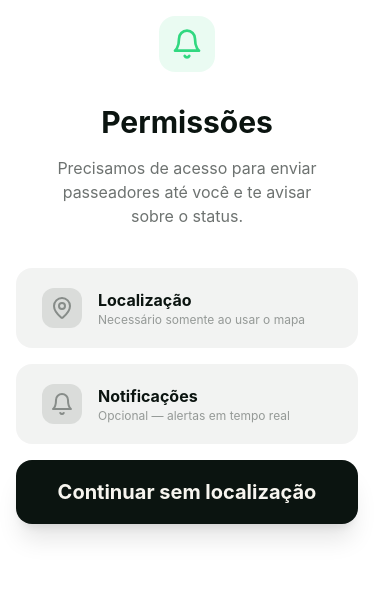
Test: PermissionsStep — localização opcional › permissão negada → mensagem clara e 'Continuar sem localização' avança
Later steps or results of the test are not shown.
Click the button with test id "location-card" at coordinates (187, 308), box [16, 268, 358, 348]
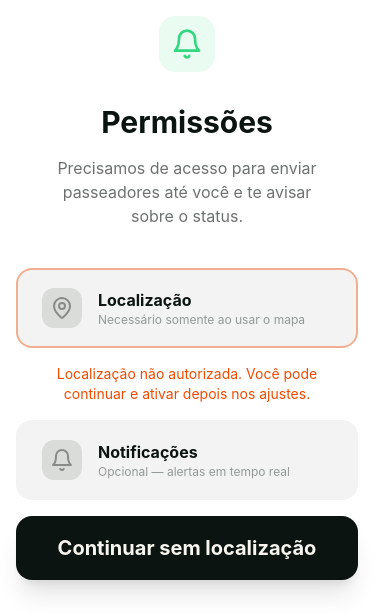
Expected: the button with test id "continue-permissions" reads "Continuar sem localização", [16, 516, 358, 580]
Expected: the message with test id "location-message" reads "Localização não autorizada. Você pode continuar e ativar depois nos ajustes.", [57, 365, 317, 402]
